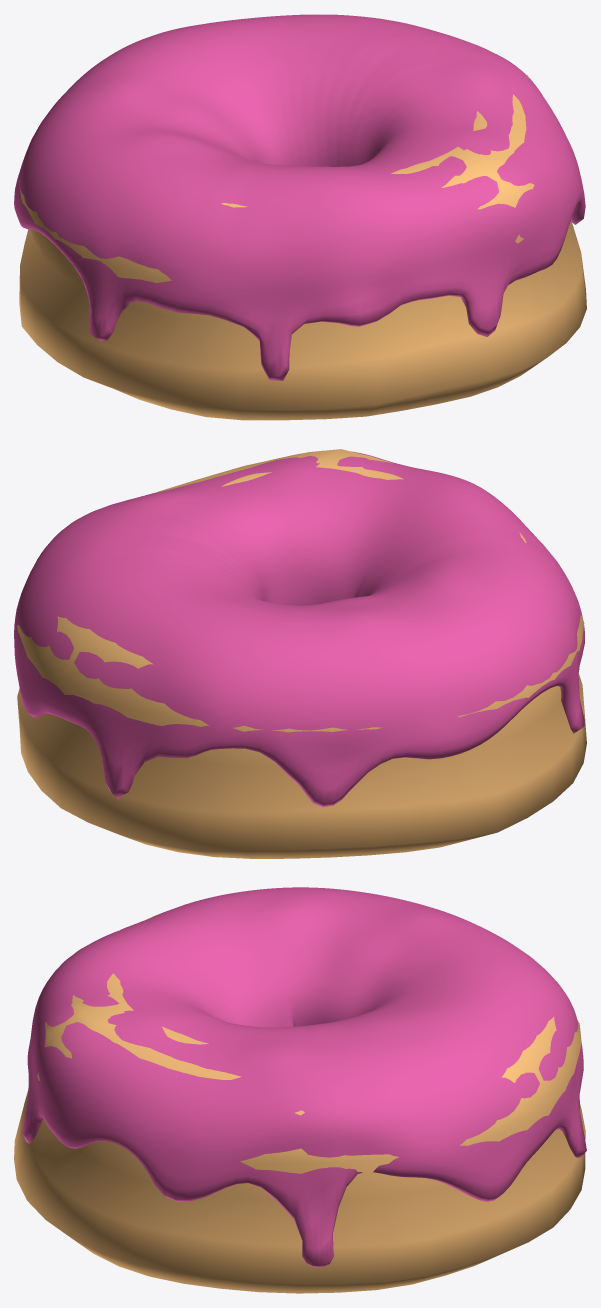
File: donut.glb
3 renders of one model, top to bottom at view 1: azimuth 30°, elevation 25°; view 2: azimuth 150°, elevation 25°; view 3: azimuth 270°, elevation 25°, orthographic.
Parts seen in each view (by area): view 1: Icing, Donut; view 2: Icing, Donut; view 3: Icing, Donut.
Boxes of the visible parts, left/top/right/bottom form: Icing: left=14, top=14, right=585, bottom=380; Donut: left=18, top=74, right=586, bottom=420; Icing: left=14, top=451, right=584, bottom=807; Donut: left=17, top=449, right=586, bottom=858; Icing: left=22, top=887, right=586, bottom=1267; Donut: left=14, top=914, right=585, bottom=1293.
Size of what is drawn, in the model's own units: 0.0971 by 0.0436 by 0.097.
